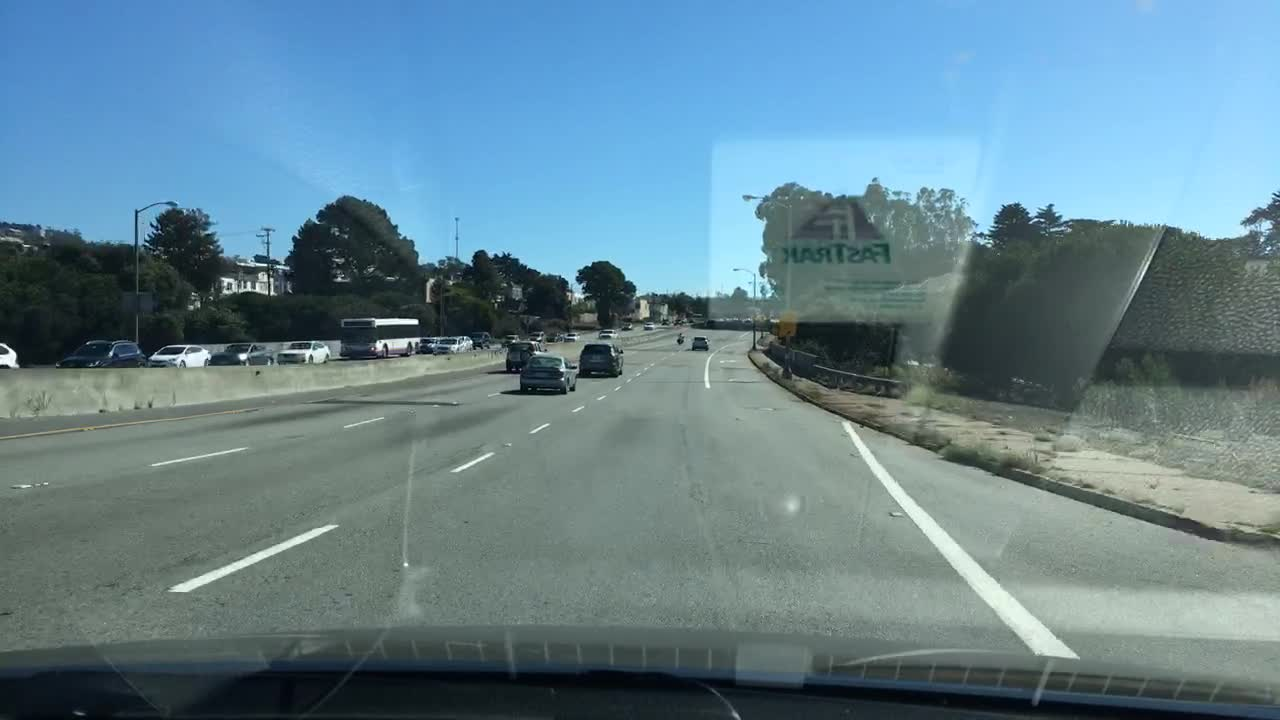bus: (338, 317, 425, 358)
car: (518, 349, 578, 397), (58, 337, 141, 371), (577, 338, 623, 380), (145, 344, 212, 369), (212, 340, 274, 365), (278, 337, 330, 365), (501, 337, 536, 375), (434, 333, 471, 355), (0, 342, 16, 369), (686, 334, 710, 350), (417, 336, 439, 353), (471, 332, 489, 349), (596, 328, 617, 338), (563, 331, 577, 344), (531, 328, 547, 338), (642, 321, 656, 331), (505, 333, 517, 344), (489, 338, 502, 348), (621, 323, 635, 331)
motor: (676, 336, 684, 352)
rider: (674, 331, 685, 344)
traffic sign: (774, 309, 798, 339)
